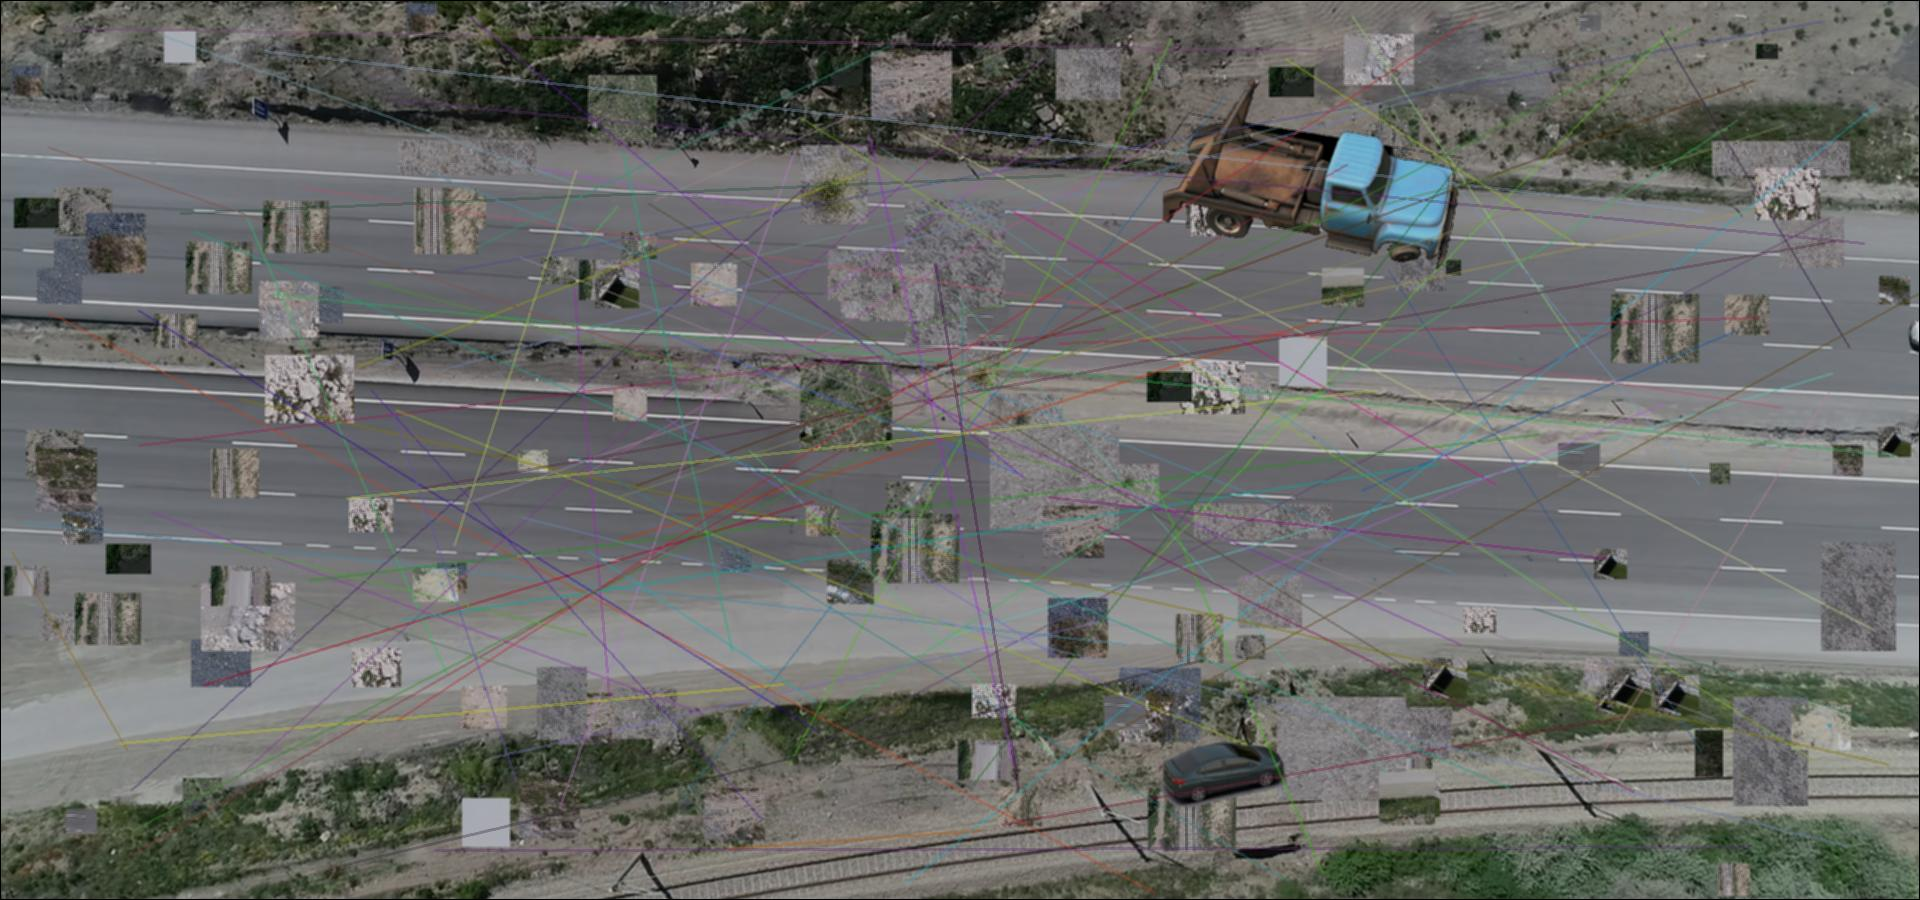arac: (1163, 80, 1463, 269), (1158, 742, 1287, 807)
